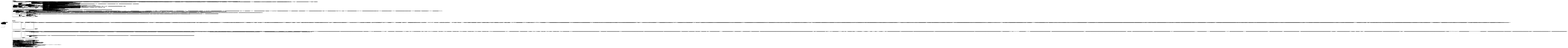door: (890, 5, 911, 6), (853, 5, 870, 6), (820, 5, 834, 6), (889, 6, 899, 7), (884, 5, 894, 6), (889, 2, 899, 3), (759, 5, 768, 6), (756, 5, 765, 6), (791, 5, 800, 6), (789, 5, 798, 6), (728, 5, 733, 6), (891, 2, 896, 3), (892, 2, 895, 3), (817, 32, 820, 33), (404, 7, 406, 7), (398, 6, 405, 6), (400, 6, 403, 6), (396, 7, 398, 7), (407, 4, 408, 4), (430, 5, 432, 5), (423, 5, 425, 5), (430, 6, 432, 6), (423, 6, 425, 6), (399, 5, 401, 5), (484, 7, 486, 7), (832, 7, 834, 7), (889, 7, 899, 7), (892, 7, 895, 7), (891, 7, 896, 7), (729, 5, 732, 5), (759, 5, 762, 5), (760, 5, 762, 5), (825, 5, 831, 5), (826, 5, 834, 5), (820, 5, 829, 5), (828, 5, 837, 5), (859, 5, 870, 5), (855, 5, 864, 5), (887, 5, 895, 5), (890, 5, 896, 5), (887, 5, 894, 5), (889, 5, 894, 5), (729, 4, 731, 4), (800, 5, 801, 5), (858, 4, 862, 4), (857, 4, 862, 4), (860, 4, 863, 4), (859, 4, 865, 4), (856, 4, 861, 4), (861, 4, 866, 4), (859, 4, 863, 4), (890, 4, 894, 4), (893, 4, 897, 4), (832, 3, 834, 3), (892, 3, 895, 3), (891, 3, 896, 3), (728, 1, 733, 1), (729, 1, 732, 1), (759, 1, 768, 1), (756, 1, 765, 1), (791, 1, 800, 1), (789, 1, 798, 1), (823, 1, 828, 1), (855, 1, 861, 1), (851, 1, 860, 1), (856, 1, 864, 1), (789, 33, 791, 33), (787, 33, 789, 33), (733, 33, 736, 33), (731, 33, 734, 33), (878, 38, 881, 38), (944, 38, 946, 38)
room: (506, 44, 583, 46), (881, 45, 955, 47), (356, 41, 425, 43), (434, 36, 502, 38), (913, 3, 958, 5), (802, 42, 876, 43), (358, 37, 427, 38), (728, 43, 796, 44), (513, 41, 579, 42), (913, 5, 958, 6), (913, 6, 958, 7), (878, 1, 911, 2), (813, 1, 846, 2), (780, 2, 813, 3), (878, 2, 911, 3), (780, 6, 813, 7), (813, 6, 846, 7), (813, 5, 846, 6), (780, 5, 813, 6), (878, 5, 911, 6), (878, 6, 911, 7), (780, 1, 813, 2), (813, 2, 846, 3), (748, 1, 780, 2), (846, 1, 878, 2), (748, 6, 780, 7), (748, 2, 780, 3), (846, 2, 878, 3), (846, 6, 878, 7), (846, 5, 878, 6), (748, 5, 780, 6), (744, 37, 768, 38), (813, 37, 831, 38), (831, 37, 841, 38), (533, 3, 539, 4), (467, 1, 470, 2), (507, 2, 511, 2), (929, 4, 936, 4), (827, 37, 831, 37), (841, 37, 844, 37), (780, 4, 813, 4), (813, 4, 846, 4), (846, 4, 878, 4), (878, 4, 911, 4), (748, 4, 780, 4), (469, 2, 484, 2)
staircase: (507, 44, 511, 44), (549, 45, 553, 45)
wall: (348, 40, 592, 48), (719, 40, 963, 48), (348, 9, 592, 17), (715, 9, 959, 17), (348, 0, 592, 8), (715, 0, 959, 8), (348, 32, 592, 39), (719, 32, 963, 39), (348, 19, 592, 26), (716, 19, 960, 26), (514, 0, 590, 4), (348, 1, 412, 4), (463, 2, 548, 4), (412, 1, 463, 4), (348, 5, 416, 7), (505, 5, 558, 7), (416, 5, 464, 7), (464, 5, 505, 7), (463, 1, 514, 2), (348, 0, 397, 1), (348, 4, 387, 5), (399, 37, 427, 38), (886, 38, 913, 39), (925, 38, 951, 39), (819, 32, 840, 33), (820, 34, 838, 35), (861, 42, 876, 43), (831, 37, 841, 38), (771, 35, 780, 36), (469, 3, 477, 4), (914, 2, 922, 3), (555, 3, 563, 4), (555, 1, 563, 2), (548, 3, 555, 4), (583, 3, 590, 4), (583, 1, 590, 2), (548, 1, 555, 2), (852, 37, 859, 38), (407, 4, 413, 5), (922, 2, 928, 3), (928, 2, 933, 3), (933, 2, 938, 3), (938, 2, 943, 3), (573, 3, 578, 4), (578, 3, 583, 4), (573, 1, 578, 2), (578, 1, 583, 2), (568, 1, 573, 2), (950, 38, 953, 39), (912, 38, 914, 39), (369, 7, 370, 7), (417, 3, 430, 3), (419, 3, 428, 3), (361, 3, 363, 3), (489, 2, 501, 2), (423, 2, 433, 2), (430, 3, 442, 3), (431, 3, 440, 3), (441, 2, 443, 2), (413, 2, 415, 2), (914, 2, 922, 2), (922, 2, 928, 2), (928, 2, 933, 2), (933, 2, 938, 2), (938, 2, 943, 2), (735, 4, 737, 4), (732, 4, 739, 4), (793, 4, 795, 4), (796, 4, 798, 4), (829, 4, 830, 4), (826, 4, 828, 4), (891, 1, 893, 1), (893, 1, 895, 1), (952, 7, 953, 7), (940, 7, 941, 7), (931, 7, 933, 7), (949, 7, 950, 7), (927, 7, 929, 7), (941, 6, 942, 6), (925, 4, 934, 4), (939, 5, 940, 5), (563, 4, 568, 4), (568, 4, 573, 4), (573, 4, 578, 4), (578, 4, 583, 4), (555, 4, 563, 4), (548, 4, 555, 4), (548, 3, 555, 3), (583, 4, 590, 4), (555, 3, 563, 3), (583, 3, 590, 3), (573, 3, 578, 3), (578, 3, 583, 3), (563, 2, 568, 2), (568, 2, 573, 2), (573, 2, 578, 2), (578, 2, 583, 2), (583, 2, 590, 2), (555, 2, 563, 2), (548, 2, 555, 2), (573, 1, 578, 1), (578, 1, 583, 1), (568, 1, 573, 1), (583, 1, 590, 1), (555, 1, 563, 1), (548, 1, 555, 1), (371, 1, 376, 1), (819, 33, 840, 33), (880, 38, 897, 38), (886, 38, 913, 38), (927, 38, 944, 38), (925, 38, 951, 38), (830, 38, 840, 38), (861, 43, 876, 43), (861, 42, 876, 42), (399, 37, 427, 37), (820, 33, 838, 33)
